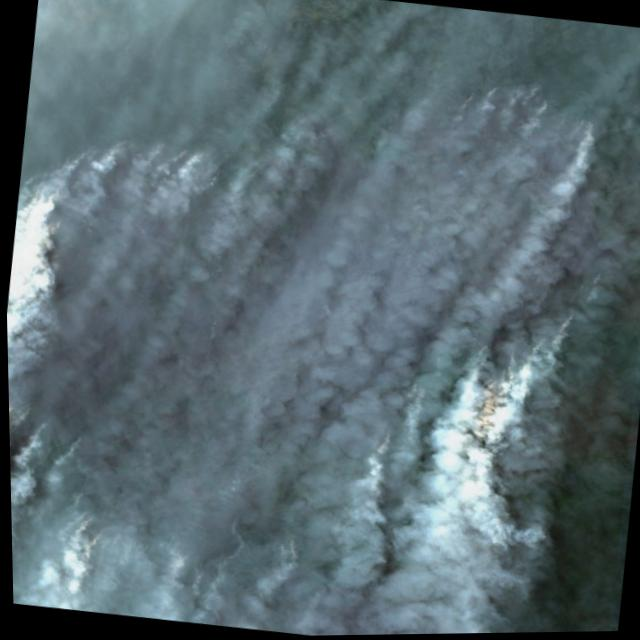fire: (70, 127, 238, 190), (458, 76, 605, 140), (7, 395, 85, 448), (47, 496, 122, 547), (474, 328, 551, 377), (362, 419, 402, 448), (258, 534, 303, 557), (394, 380, 429, 408), (553, 304, 580, 338)
